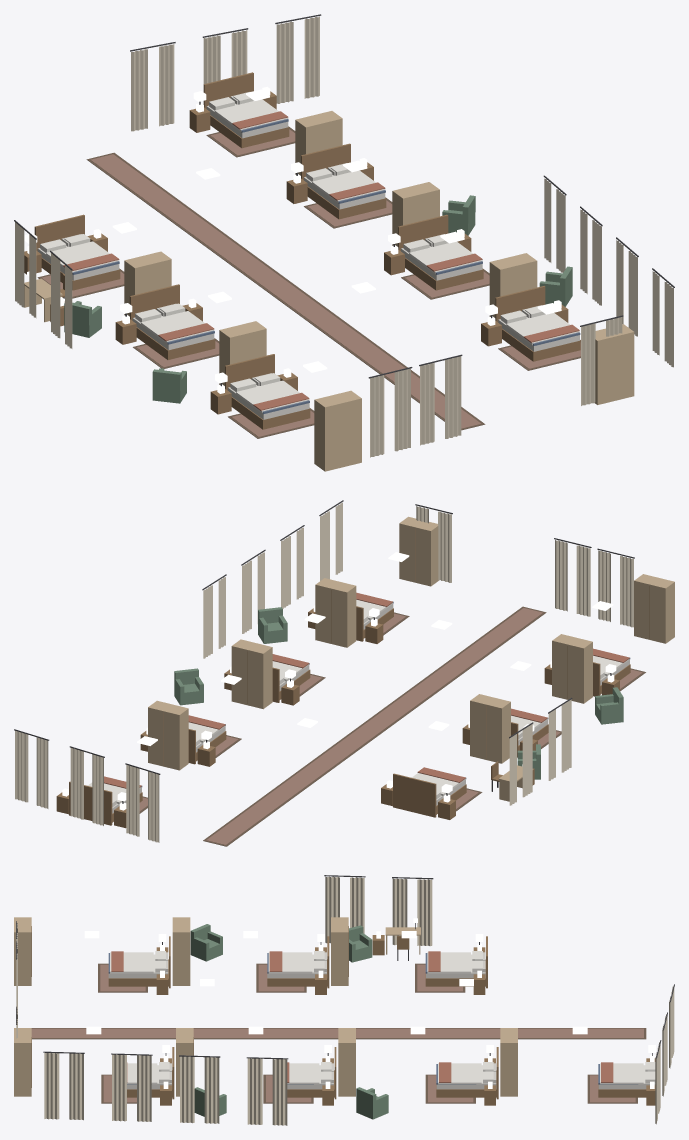
The model's file is fine-s3.glb.
3 views of the same model, one above another, from view 1: azimuth 30°, elevation 25°; view 2: azimuth 150°, elevation 25°; view 3: azimuth 270°, elevation 25° (orthographic). The views are drawn at different scales.
Visible parts, largest first — view 1: soft-s3, dresser.016, dresser.020, bed-frame.015, bed-frame.017, bed-frame.019, bed-frame.018, bed-frame.020, bed-frame.016, bed-frame.014, dresser.019, dresser.017 (+7 smaller); view 2: soft-s3, dresser.016, dresser.019, dresser.018, dresser.015, dresser.014, dresser.017, dresser.020, bed-frame.014, lounge-chair.010, lounge-chair.011, lounge-chair.009 (+5 smaller); view 3: soft-s3, dresser.015, dresser.014, dresser.017, dresser.018, dresser.020, dresser.016, bed-frame.018, bed-frame.015, lounge-chair.009, bed-frame.016, bed-frame.014 (+7 smaller).
Boxes of the visible parts, x1=… form: soft-s3: x1=14, y1=14, x2=674, y2=457; dresser.016: x1=314, y1=390, x2=361, y2=471; dresser.020: x1=595, y1=324, x2=634, y2=404; bed-frame.015: x1=129, y1=284, x2=215, y2=359; bed-frame.017: x1=203, y1=72, x2=289, y2=148; bed-frame.019: x1=398, y1=214, x2=483, y2=290; bed-frame.018: x1=301, y1=143, x2=386, y2=219; bed-frame.020: x1=495, y1=286, x2=580, y2=361; bed-frame.016: x1=225, y1=354, x2=310, y2=429; bed-frame.014: x1=34, y1=214, x2=120, y2=290; dresser.019: x1=489, y1=253, x2=537, y2=317; dresser.017: x1=295, y1=111, x2=342, y2=175; soft-s3: x1=14, y1=500, x2=645, y2=846; dresser.016: x1=634, y1=574, x2=674, y2=643; dresser.019: x1=315, y1=578, x2=356, y2=647; dresser.018: x1=231, y1=639, x2=272, y2=709; dresser.015: x1=552, y1=634, x2=592, y2=703; dresser.014: x1=470, y1=694, x2=510, y2=763; dresser.017: x1=148, y1=700, x2=188, y2=770; dresser.020: x1=399, y1=516, x2=439, y2=586; bed-frame.014: x1=393, y1=773, x2=466, y2=817; lounge-chair.010: x1=174, y1=668, x2=203, y2=705; lounge-chair.011: x1=258, y1=607, x2=287, y2=643; lounge-chair.009: x1=595, y1=687, x2=623, y2=724; soft-s3: x1=16, y1=875, x2=674, y2=1125; dresser.015: x1=172, y1=917, x2=190, y2=985; dresser.014: x1=331, y1=917, x2=348, y2=985; dresser.017: x1=500, y1=1028, x2=517, y2=1096; dresser.018: x1=338, y1=1028, x2=355, y2=1096; dresser.020: x1=14, y1=1028, x2=31, y2=1096; dresser.016: x1=14, y1=917, x2=31, y2=985; bed-frame.018: x1=436, y1=1047, x2=498, y2=1099; bed-frame.015: x1=267, y1=936, x2=329, y2=988; lounge-chair.009: x1=190, y1=924, x2=222, y2=961; bed-frame.016: x1=108, y1=936, x2=170, y2=988; bed-frame.014: x1=425, y1=936, x2=487, y2=988.
Size of the model in its own units: 14.69 by 2.56 by 22.35.
